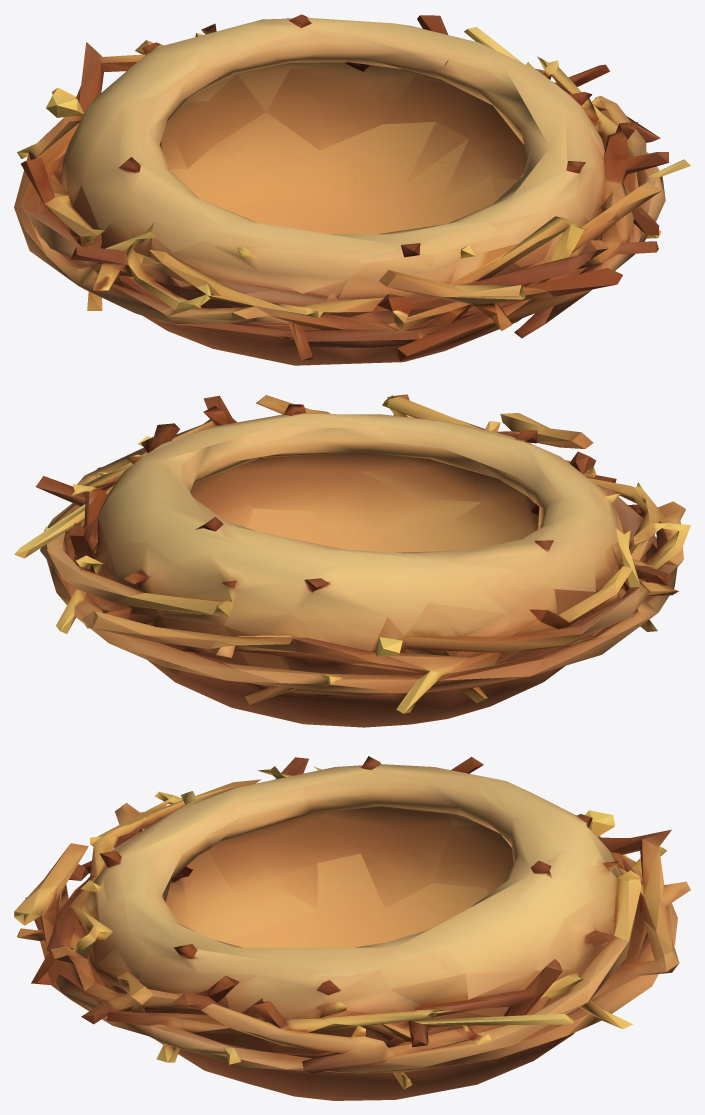
File: nest.fbx
The picture shows the model from 3 angles, top to bottom: view 1: azimuth 30°, elevation 25°; view 2: azimuth 150°, elevation 25°; view 3: azimuth 270°, elevation 25°; orthographic projection. The views are drawn at different scales.
Visible parts, largest first — view 1: tripo_node_8c88c85e; view 2: tripo_node_8c88c85e; view 3: tripo_node_8c88c85e.
Boxes of the visible parts, <box> form: tripo_node_8c88c85e: <box>14,14,690,365</box>; tripo_node_8c88c85e: <box>14,394,690,727</box>; tripo_node_8c88c85e: <box>14,756,690,1100</box>.
Size of the model in its own units: 0.17 by 0.06 by 0.17.
Materials: 1 (1 with a texture image).
